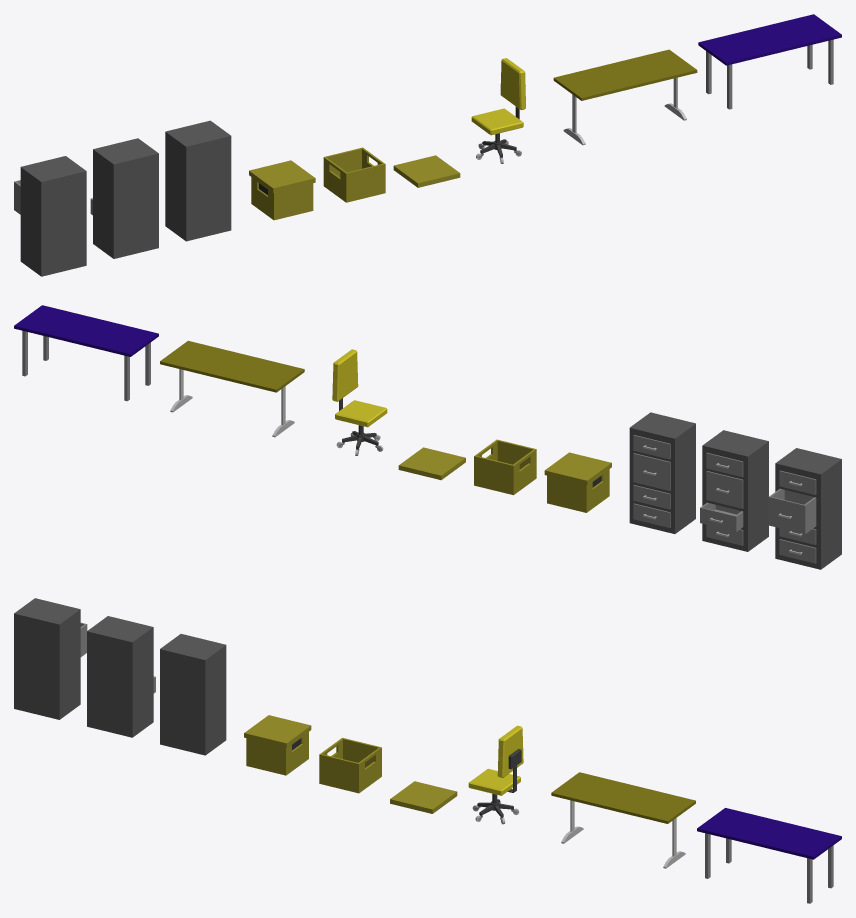
The model's file is moveis.fbx.
3 renders of one model, top to bottom at view 1: azimuth 30°, elevation 25°; view 2: azimuth 150°, elevation 25°; view 3: azimuth 330°, elevation 25°, orthographic.
Visible parts, largest first — view 1: ArmarioAberto2, Armario, ArmarioAberto1, Mesa.001, Mesa, Caixa, CaixaAberta, Cadeira, CaixaTampa; view 2: ArmarioAberto2, ArmarioAberto1, Armario, Mesa.001, Mesa, Caixa, CaixaAberta, Cadeira, CaixaTampa; view 3: ArmarioAberto2, ArmarioAberto1, Armario, Mesa.001, Mesa, Caixa, CaixaAberta, Cadeira, CaixaTampa.
Part boxes in pixels (x1=…): ArmarioAberto2: x1=14, y1=156, x2=86, y2=276; Armario: x1=165, y1=120, x2=231, y2=241; ArmarioAberto1: x1=90, y1=138, x2=158, y2=258; Mesa.001: x1=698, y1=14, x2=841, y2=109; Mesa: x1=553, y1=49, x2=697, y2=145; Caixa: x1=249, y1=160, x2=315, y2=220; CaixaAberta: x1=323, y1=147, x2=385, y2=202; Cadeira: x1=471, y1=58, x2=525, y2=163; CaixaTampa: x1=393, y1=155, x2=460, y2=187; ArmarioAberto2: x1=768, y1=448, x2=841, y2=569; ArmarioAberto1: x1=700, y1=430, x2=768, y2=551; Armario: x1=629, y1=412, x2=695, y2=533; Mesa.001: x1=14, y1=305, x2=158, y2=401; Mesa: x1=160, y1=340, x2=304, y2=437; Caixa: x1=544, y1=452, x2=611, y2=512; CaixaAberta: x1=474, y1=439, x2=536, y2=495; Cadeira: x1=332, y1=349, x2=387, y2=455; CaixaTampa: x1=398, y1=447, x2=465, y2=480; ArmarioAberto2: x1=14, y1=598, x2=87, y2=719; ArmarioAberto1: x1=87, y1=616, x2=155, y2=737; Armario: x1=160, y1=634, x2=226, y2=755; Mesa.001: x1=697, y1=808, x2=841, y2=903; Mesa: x1=551, y1=772, x2=695, y2=868; Caixa: x1=244, y1=715, x2=311, y2=775; CaixaAberta: x1=319, y1=737, x2=381, y2=793; Cadeira: x1=468, y1=725, x2=523, y2=824; CaixaTampa: x1=390, y1=781, x2=457, y2=813.
Bounding box in the file's own units: 2203 × 254 × 180.
